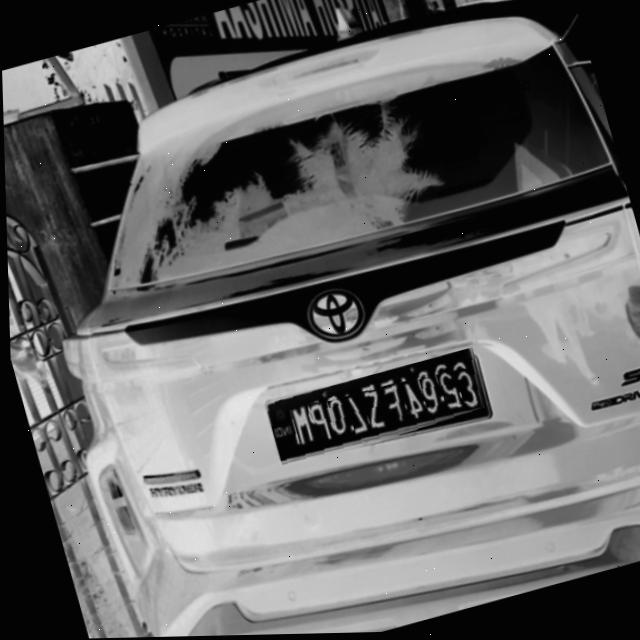0: (324, 398, 348, 438)
3: (452, 368, 479, 413)
4: (397, 379, 424, 424)
5: (433, 372, 460, 414)
6: (416, 377, 441, 418)
7: (342, 394, 367, 436)
F: (379, 384, 406, 429)
IND: (268, 405, 293, 441)
Indian_registered: (265, 350, 483, 463)
M: (286, 403, 314, 448)
P: (305, 402, 329, 445)
Z: (359, 389, 387, 432)
